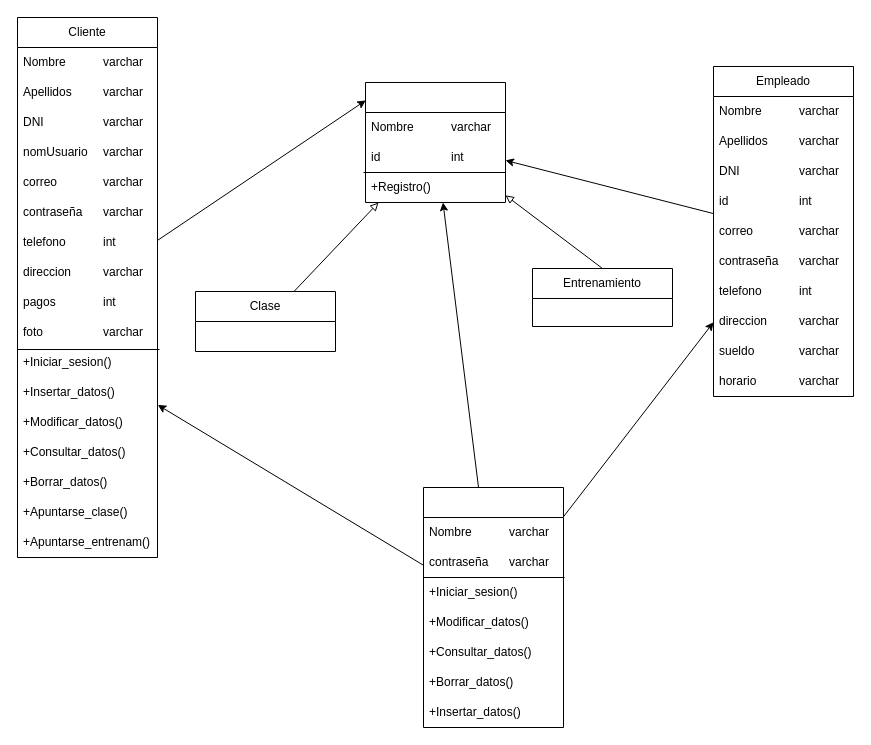
Some shapes in this 871 by 745 pixel diagram are drawn without their labels. Each missing label, with the box of its shape:
Actividades: (364, 82, 506, 202)
Administrador: (422, 486, 564, 728)
